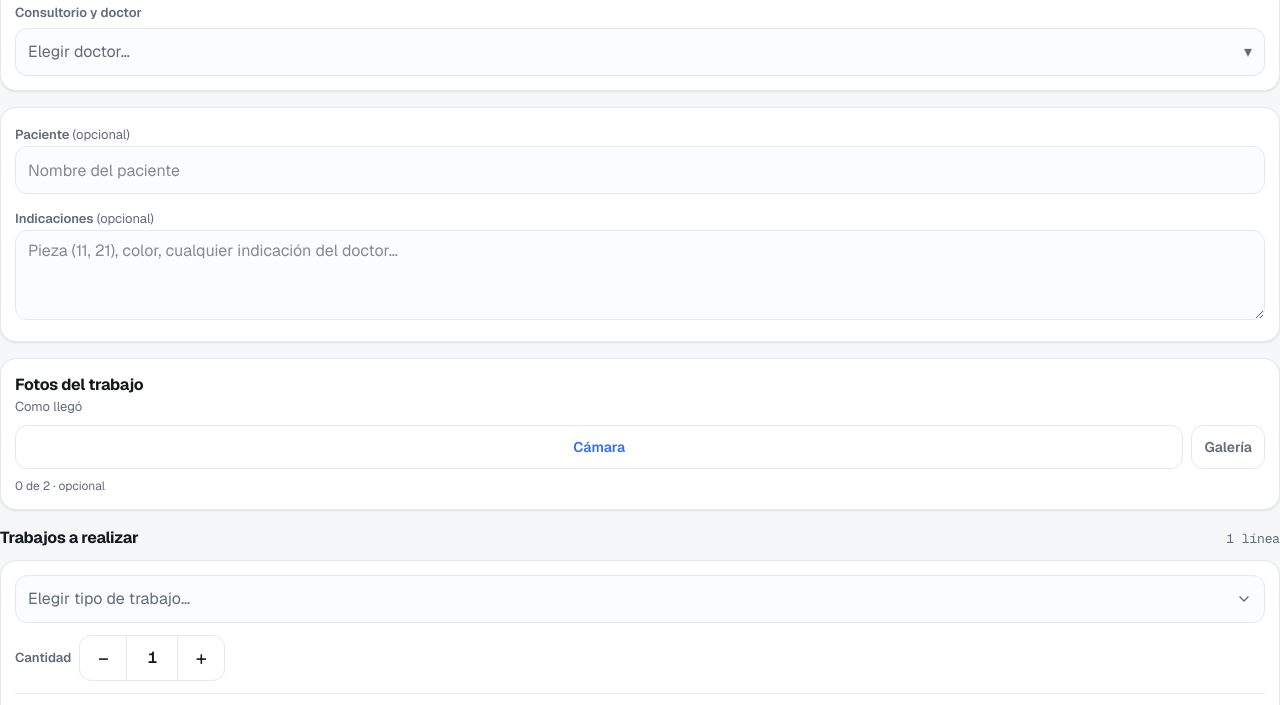
Scenario: TrabajoForm — la fecha de entrega, plegada › plegada conserva y muestra la fecha que propone el catálogo
The width and height of the screenshot is (1280, 705).
Click the button "Elegir tipo de trabajo…": x=109, y=598 x1=15 y1=574 x2=1265 y2=622
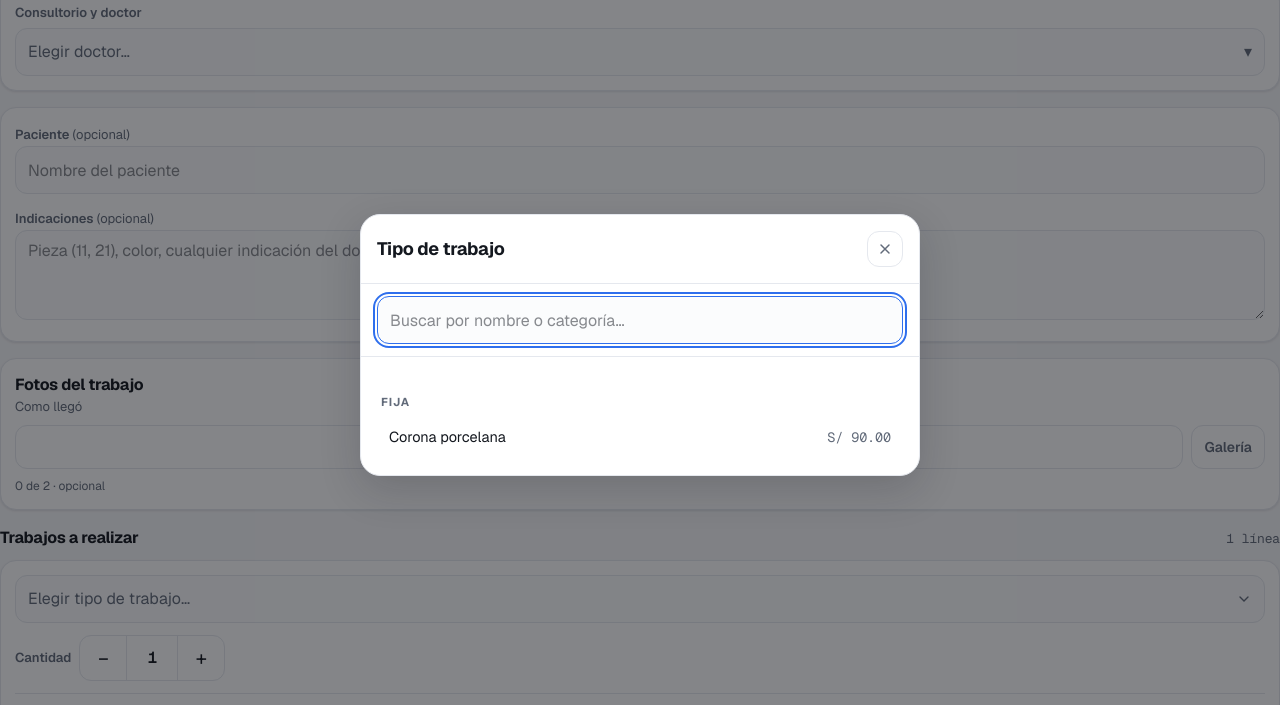
Click the button "Corona porcelana S/ 90.00": x=447, y=436 x1=377 y1=415 x2=903 y2=459
(page scrolled)
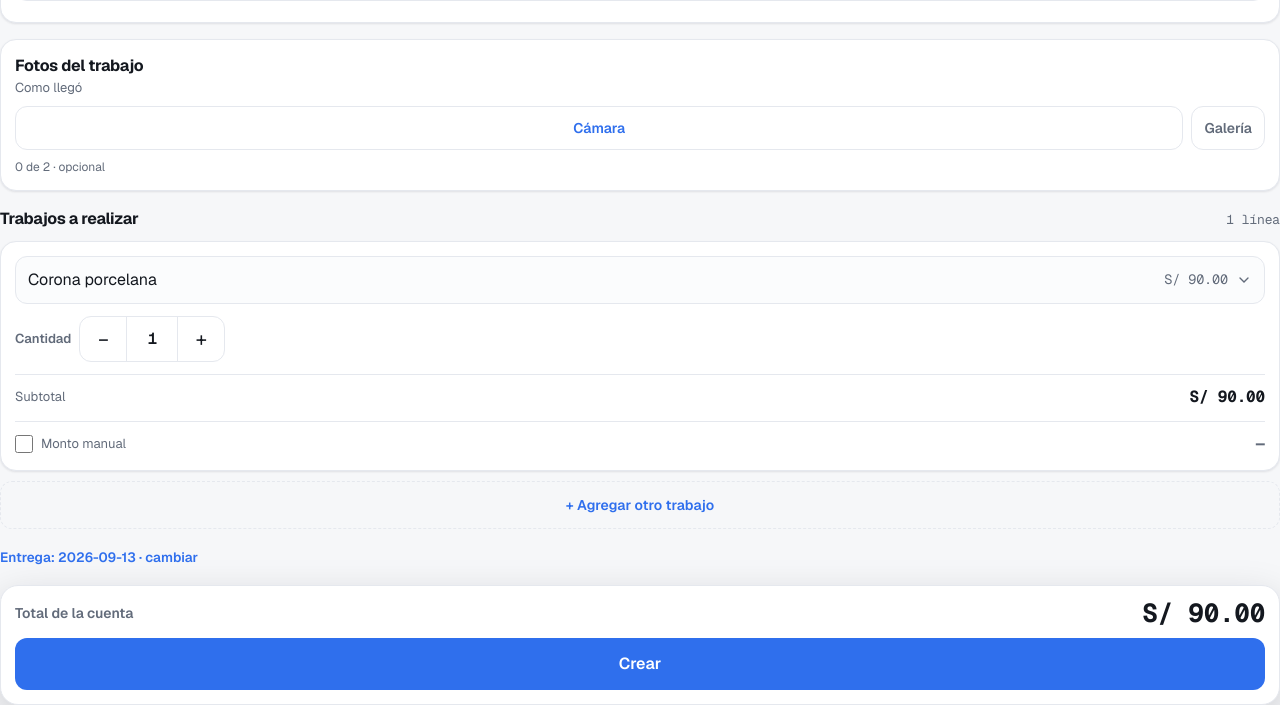
Expected: the element named "fecha_entrega" holds "2026-09-13", x1=0 y1=546 x2=198 y2=567
Expected: the button "Entrega: 2026-09-13 · cambiar" is shown, x1=0 y1=546 x2=198 y2=567
